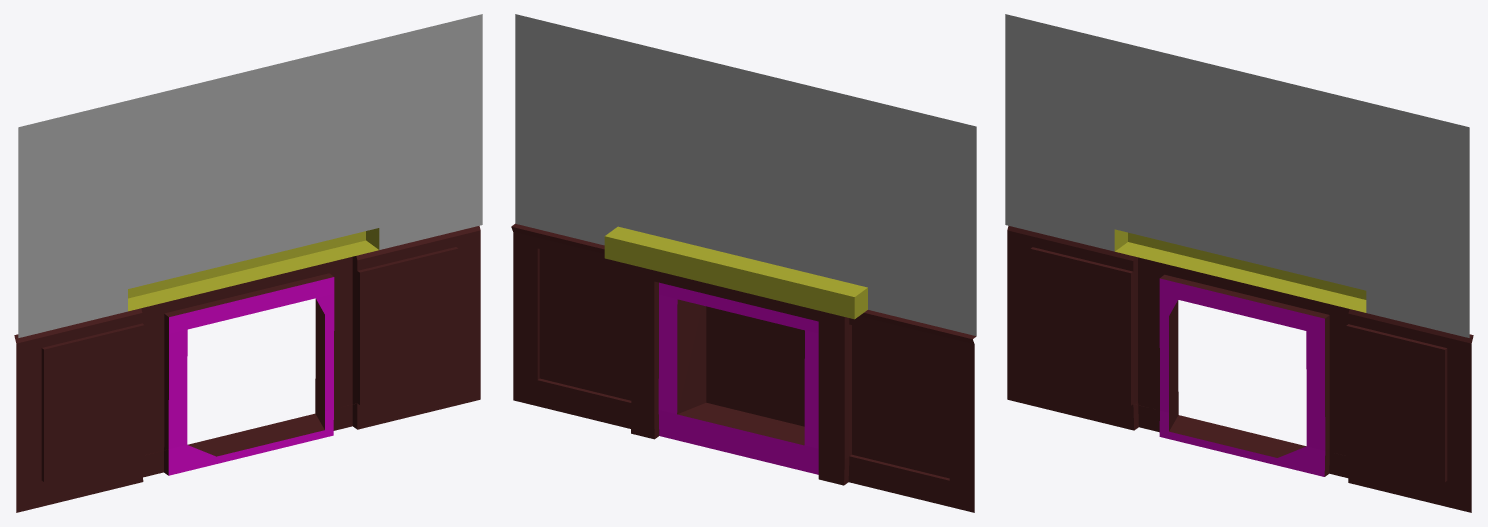
The model's file is Fireplace.fbx.
3 views of the same model, side by side, from view 1: azimuth 30°, elevation 25°; view 2: azimuth 150°, elevation 25°; view 3: azimuth 330°, elevation 25° (orthographic).
Visible parts, largest first — view 1: polySurface34; view 2: polySurface34; view 3: polySurface34.
Part boxes in pixels (x1=…): polySurface34: x1=14, y1=14, x2=482, y2=512; polySurface34: x1=511, y1=14, x2=976, y2=512; polySurface34: x1=1005, y1=14, x2=1473, y2=512.
Size of the model in its own units: 4 by 3.19 by 0.4545.
